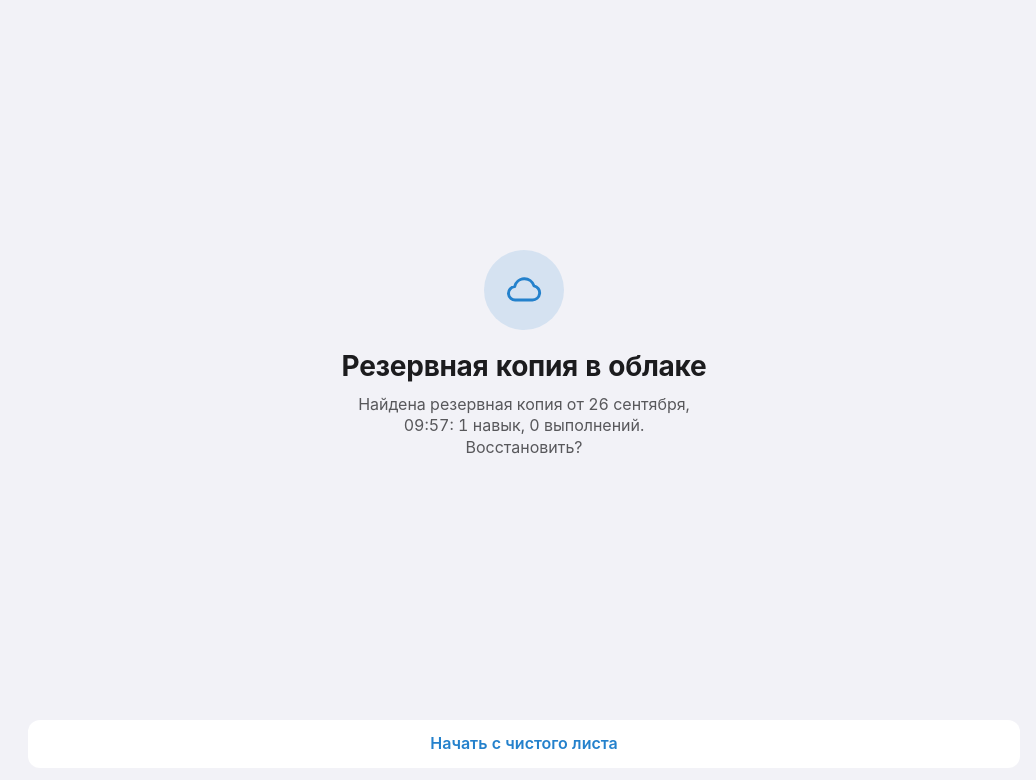
Scenario: restore offer on start › appears on an empty database when the cloud holds a copy, and can be declined
The image size is (1036, 780).
Click the button "Начать с чистого листа" at coordinates (524, 744), box left=28, top=720, right=1020, bottom=768
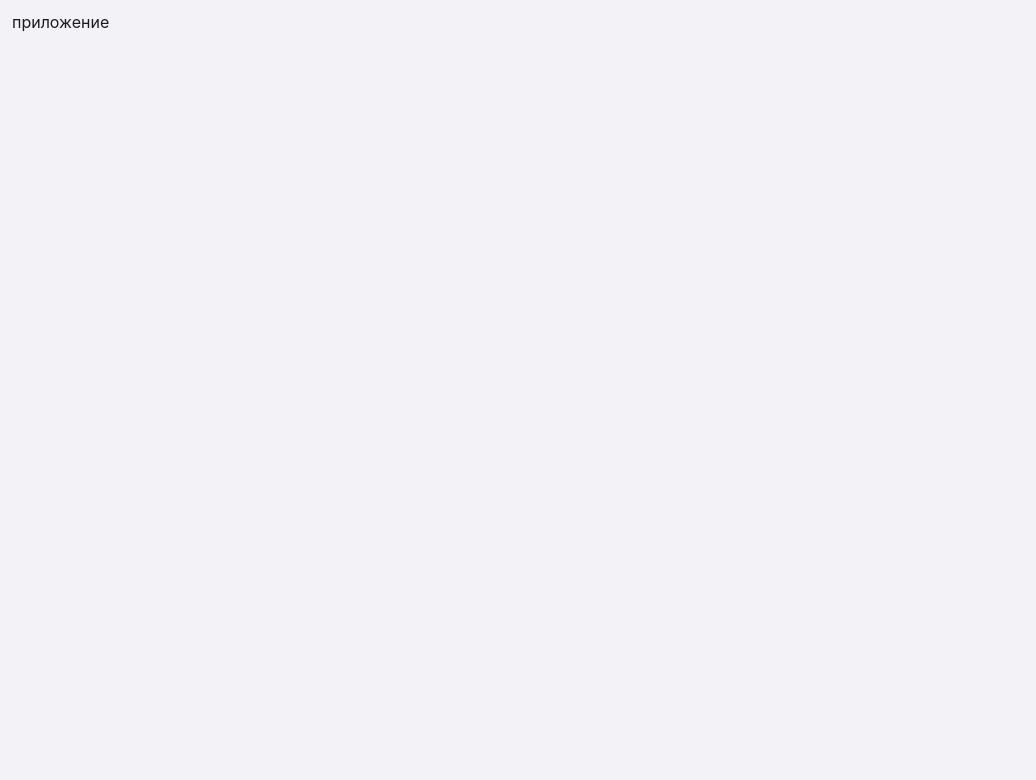
Now the text "приложение" is shown, box left=12, top=12, right=109, bottom=32
